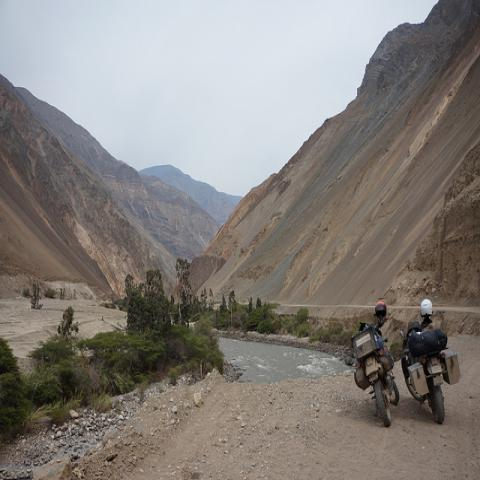motorcycle: (400, 300, 460, 423), (357, 300, 400, 428), (350, 330, 394, 392)
